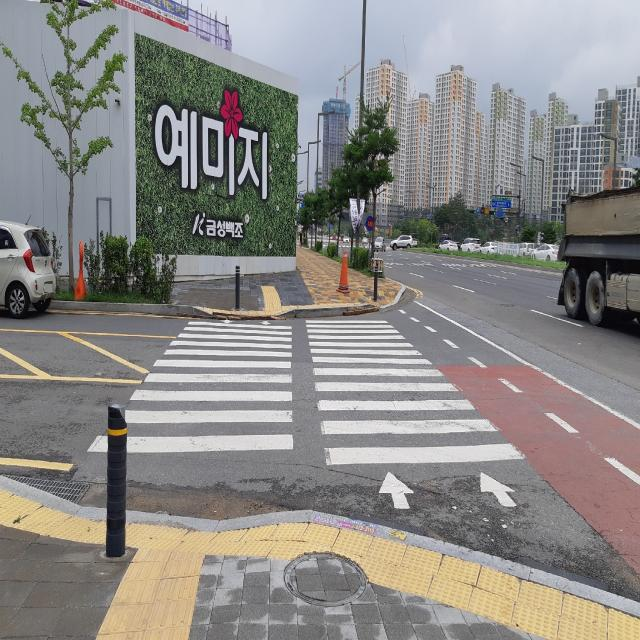횡단보도: (86, 317, 524, 509)
